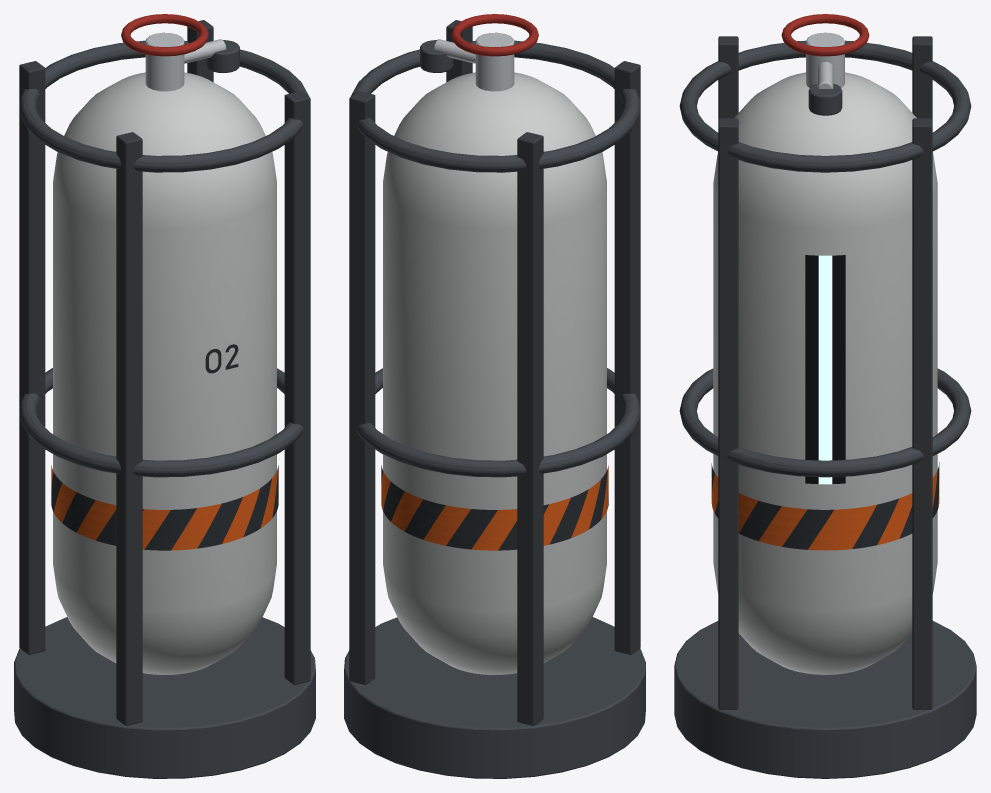
The model's file is canister.glb.
3 views of the same model, side by side, from view 1: azimuth 30°, elevation 25°; view 2: azimuth 150°, elevation 25°; view 3: azimuth 270°, elevation 25° (orthographic).
Parts seen in each view (by area): view 1: canister_detail, canister_pipes, canister_decal; view 2: canister_detail, canister_pipes, canister_decal; view 3: canister_pipes, canister_detail, canister_decal.
Boxes of the visible parts, x1=… form: canister_detail: x1=14, y1=14, x2=315, y2=778; canister_pipes: x1=53, y1=72, x2=276, y2=674; canister_decal: x1=51, y1=344, x2=278, y2=550; canister_detail: x1=344, y1=14, x2=645, y2=778; canister_pipes: x1=383, y1=72, x2=606, y2=674; canister_decal: x1=381, y1=465, x2=608, y2=550; canister_pipes: x1=713, y1=72, x2=937, y2=674; canister_detail: x1=674, y1=14, x2=976, y2=778; canister_decal: x1=711, y1=255, x2=939, y2=550.
Bounding box in the file's own units: 0.54 × 1.35 × 0.54.
